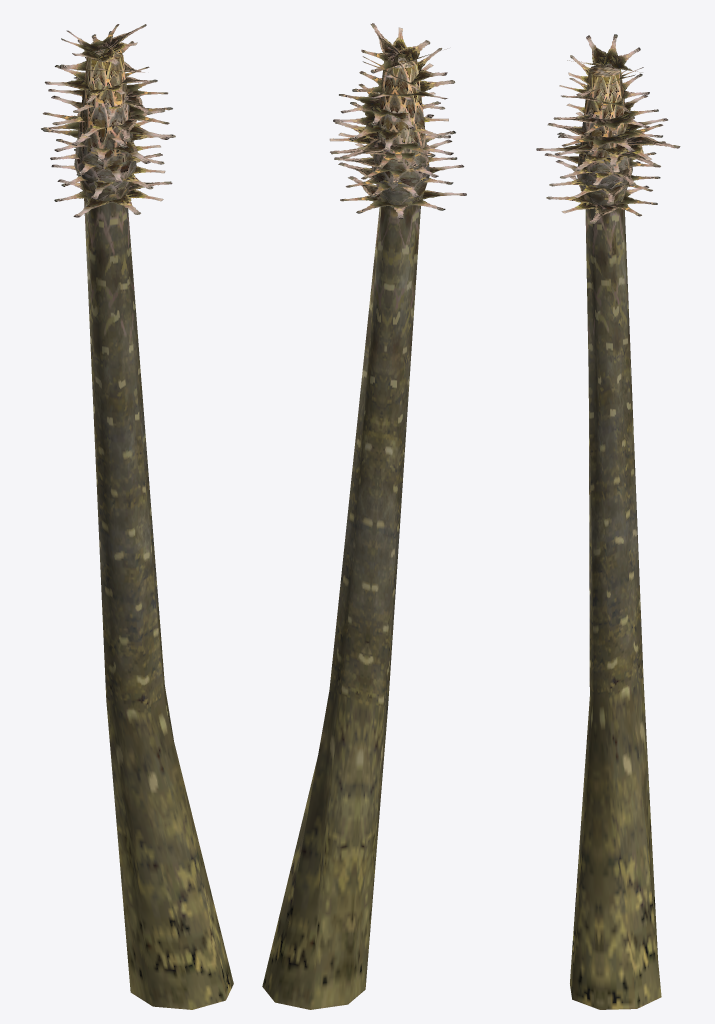
The model's file is palm_dead_3.glb.
3 views of the same model, side by side, from view 1: azimuth 30°, elevation 25°; view 2: azimuth 150°, elevation 25°; view 3: azimuth 270°, elevation 25° (orthographic). The views are drawn at different scales.
Size of the model in its own units: 2.9 by 13.5 by 2.43.
1 material, 1 textured.
